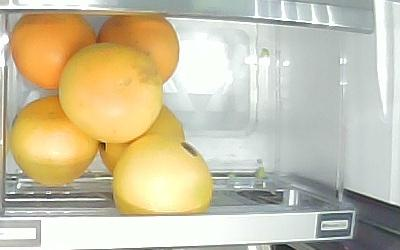grapefruit: (59, 43, 164, 143), (113, 135, 213, 214), (11, 96, 98, 185), (11, 11, 98, 90), (99, 105, 185, 174), (98, 13, 179, 86)
